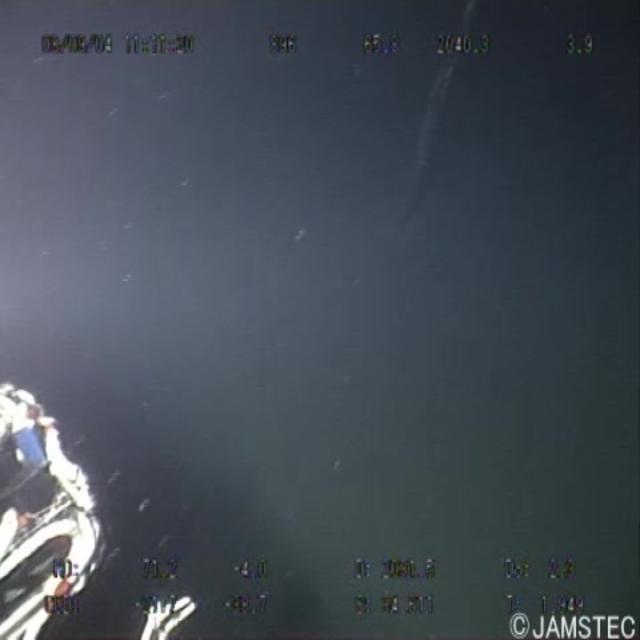Metal: (385, 12, 504, 239)
